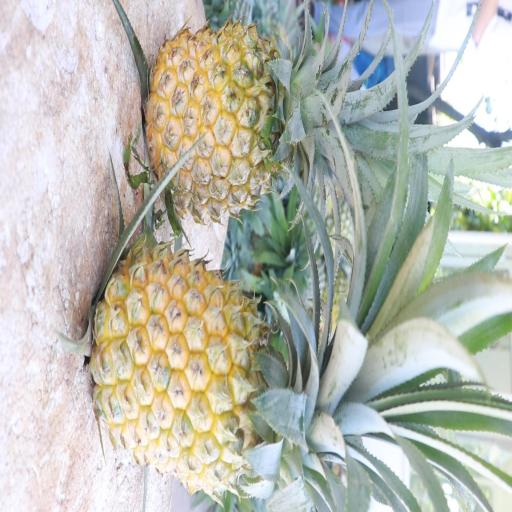Pineapple - v8 v1: (84, 233, 386, 493), (139, 16, 358, 228), (216, 154, 226, 158), (223, 112, 232, 112)
